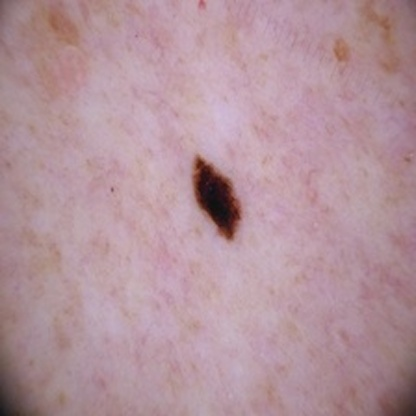malignant: (181, 158, 251, 228)
